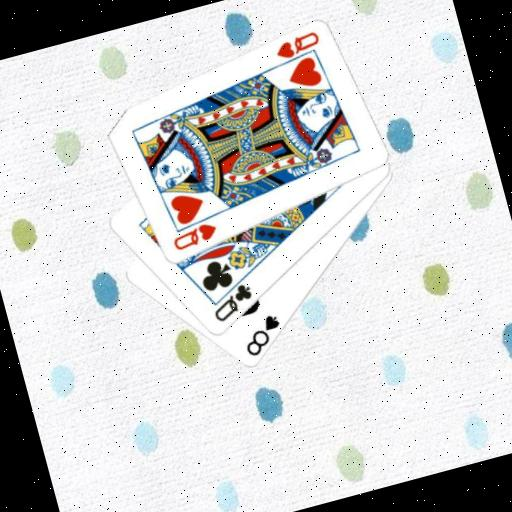8S: (235, 309, 288, 360)
QC: (204, 279, 258, 326)
QH: (265, 28, 325, 71), (166, 217, 221, 254)
